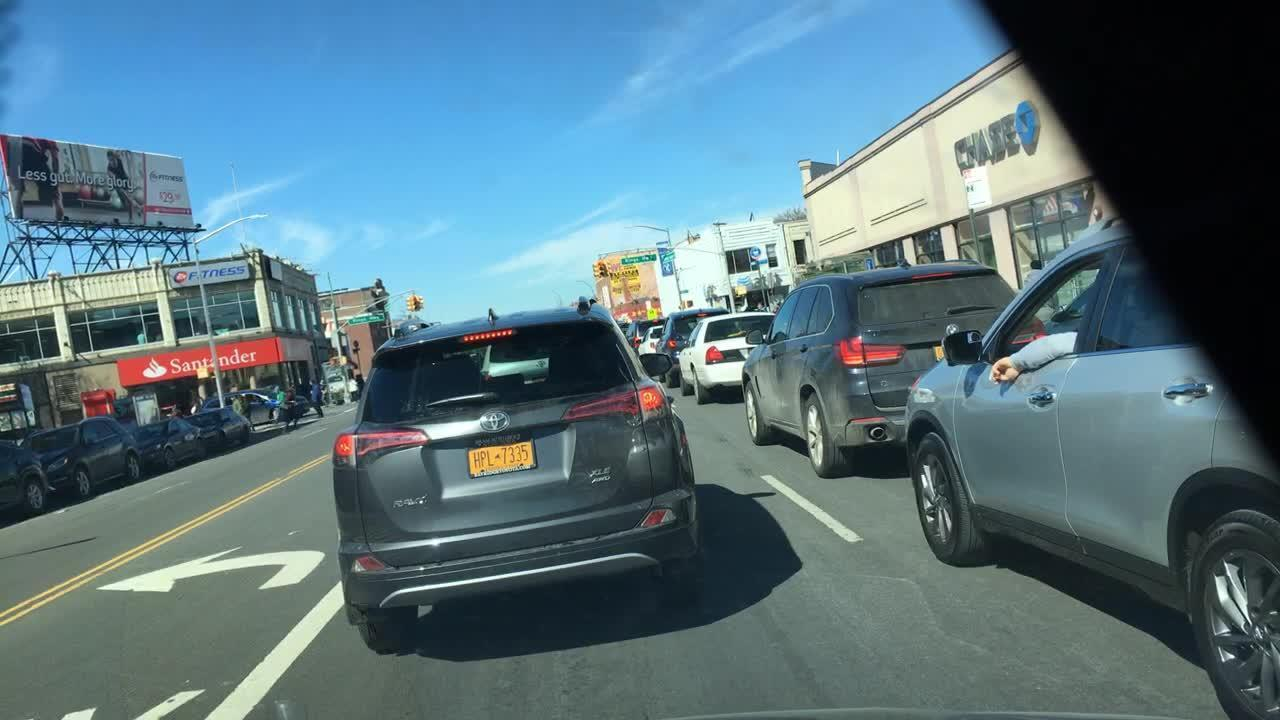Toyota: (465, 401, 515, 435)
bmw: (938, 320, 964, 337)
